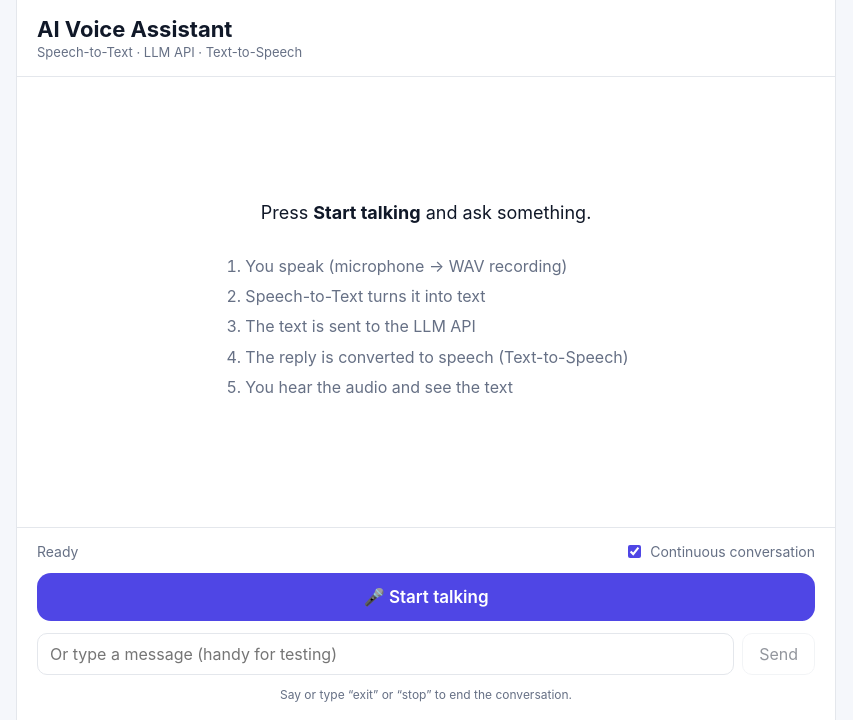
Scenario: AI Voice Assistant › ends continuous conversation when the assistant reports an exit command
The width and height of the screenshot is (853, 720).
Check: the checkbox labelled "Continuous conversation" is checked, box x1=628 y1=545 x2=641 y2=558
Type "exit" into the field labelled "message".
click(386, 654); type("exit")  # box x1=37 y1=633 x2=734 y2=675
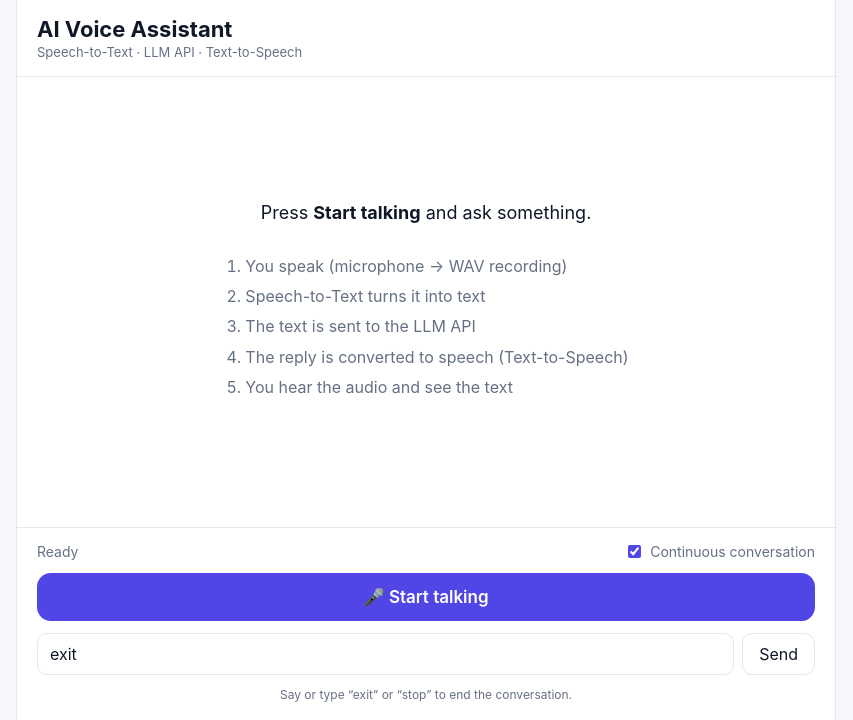
Click the button "Send".
click(779, 654)  # box x1=742 y1=633 x2=815 y2=675
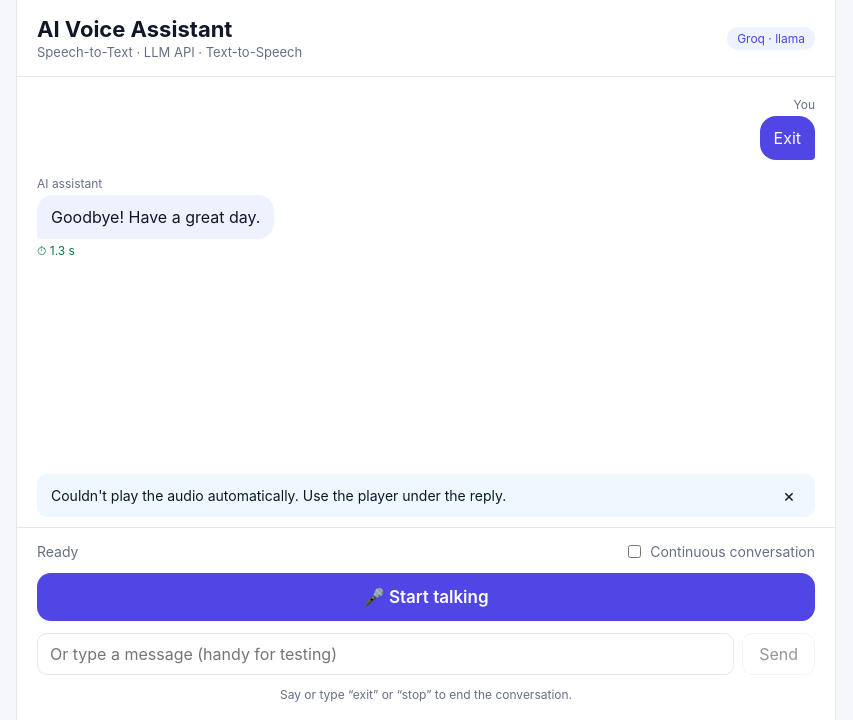
Check: the text "Goodbye! Have a great day." is shown, box x1=51 y1=205 x2=260 y2=229
Check: the checkbox labelled "Continuous conversation" is not checked, box x1=628 y1=545 x2=641 y2=558
